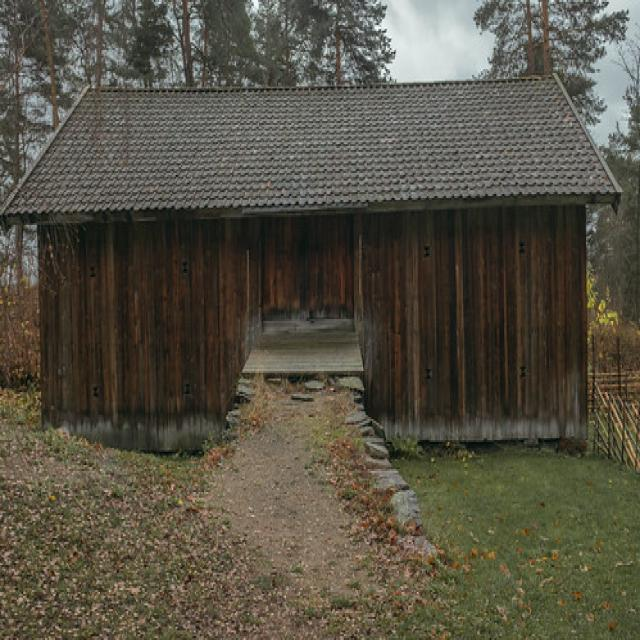Normal_building: (2, 77, 620, 455)
